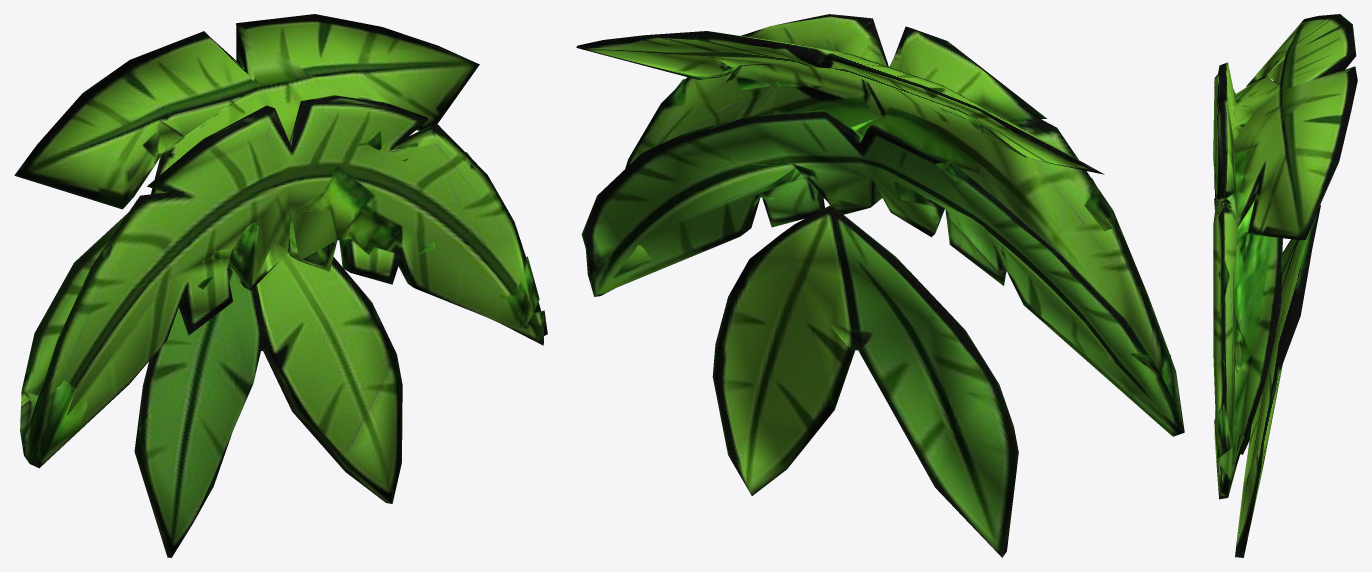
File: plants.glb
3 views of the same model, side by side, from view 1: azimuth 30°, elevation 25°; view 2: azimuth 150°, elevation 25°; view 3: azimuth 270°, elevation 25° (orthographic). The views are drawn at different scales.
Size of the model in its own units: 1.9 by 1.61 by 0.4706.
Materials: 1 (1 with a texture image).
